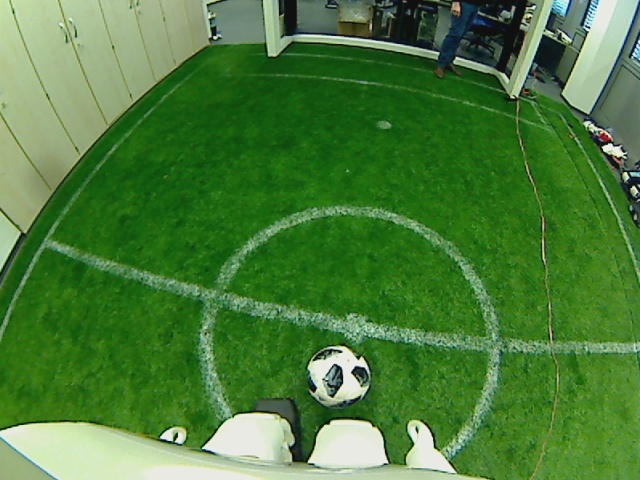ball: (305, 342, 372, 409)
